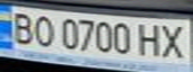0: (112, 20, 136, 56), (57, 16, 81, 51), (93, 19, 115, 54)
7: (75, 17, 96, 52)
B: (6, 9, 39, 45)
H: (133, 20, 163, 58)
O: (30, 12, 57, 47)
X: (157, 21, 190, 61)
